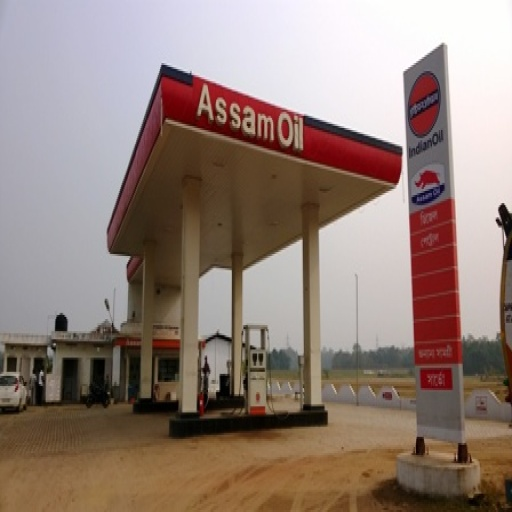roof: (104, 62, 401, 280)
